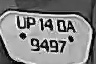1: (38, 17, 46, 32)
4: (39, 36, 49, 54), (44, 17, 55, 32)
7: (58, 39, 67, 55)
9: (30, 36, 40, 54), (49, 38, 59, 54)
A: (66, 19, 78, 35)
D: (55, 18, 67, 33)
P: (26, 15, 36, 31)
U: (15, 14, 27, 30)
